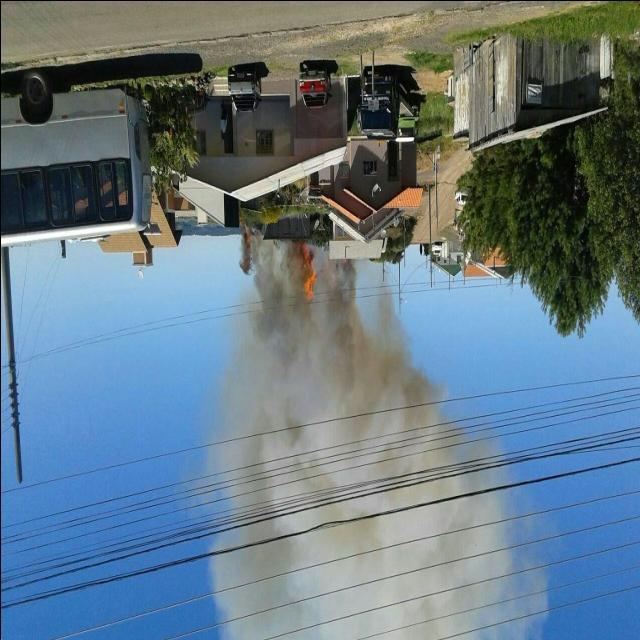Fire: (295, 236, 319, 312)
